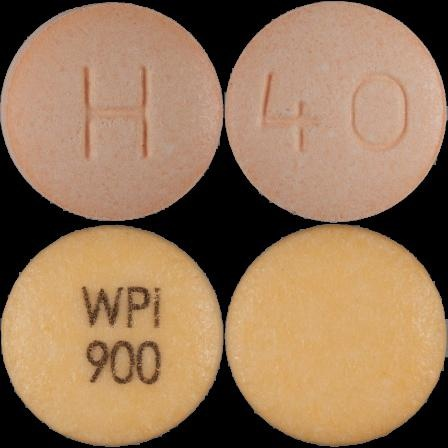63629-5246: (0, 0, 224, 224)
